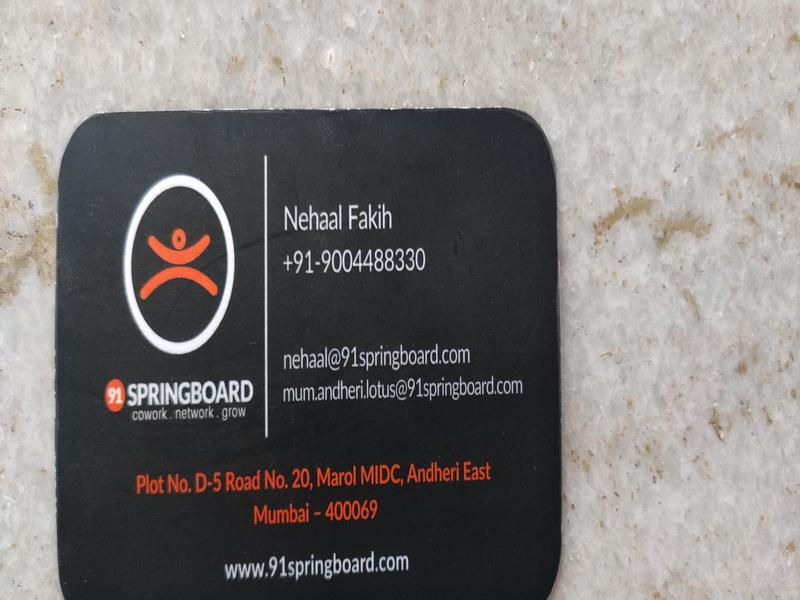card: (44, 103, 566, 600)
